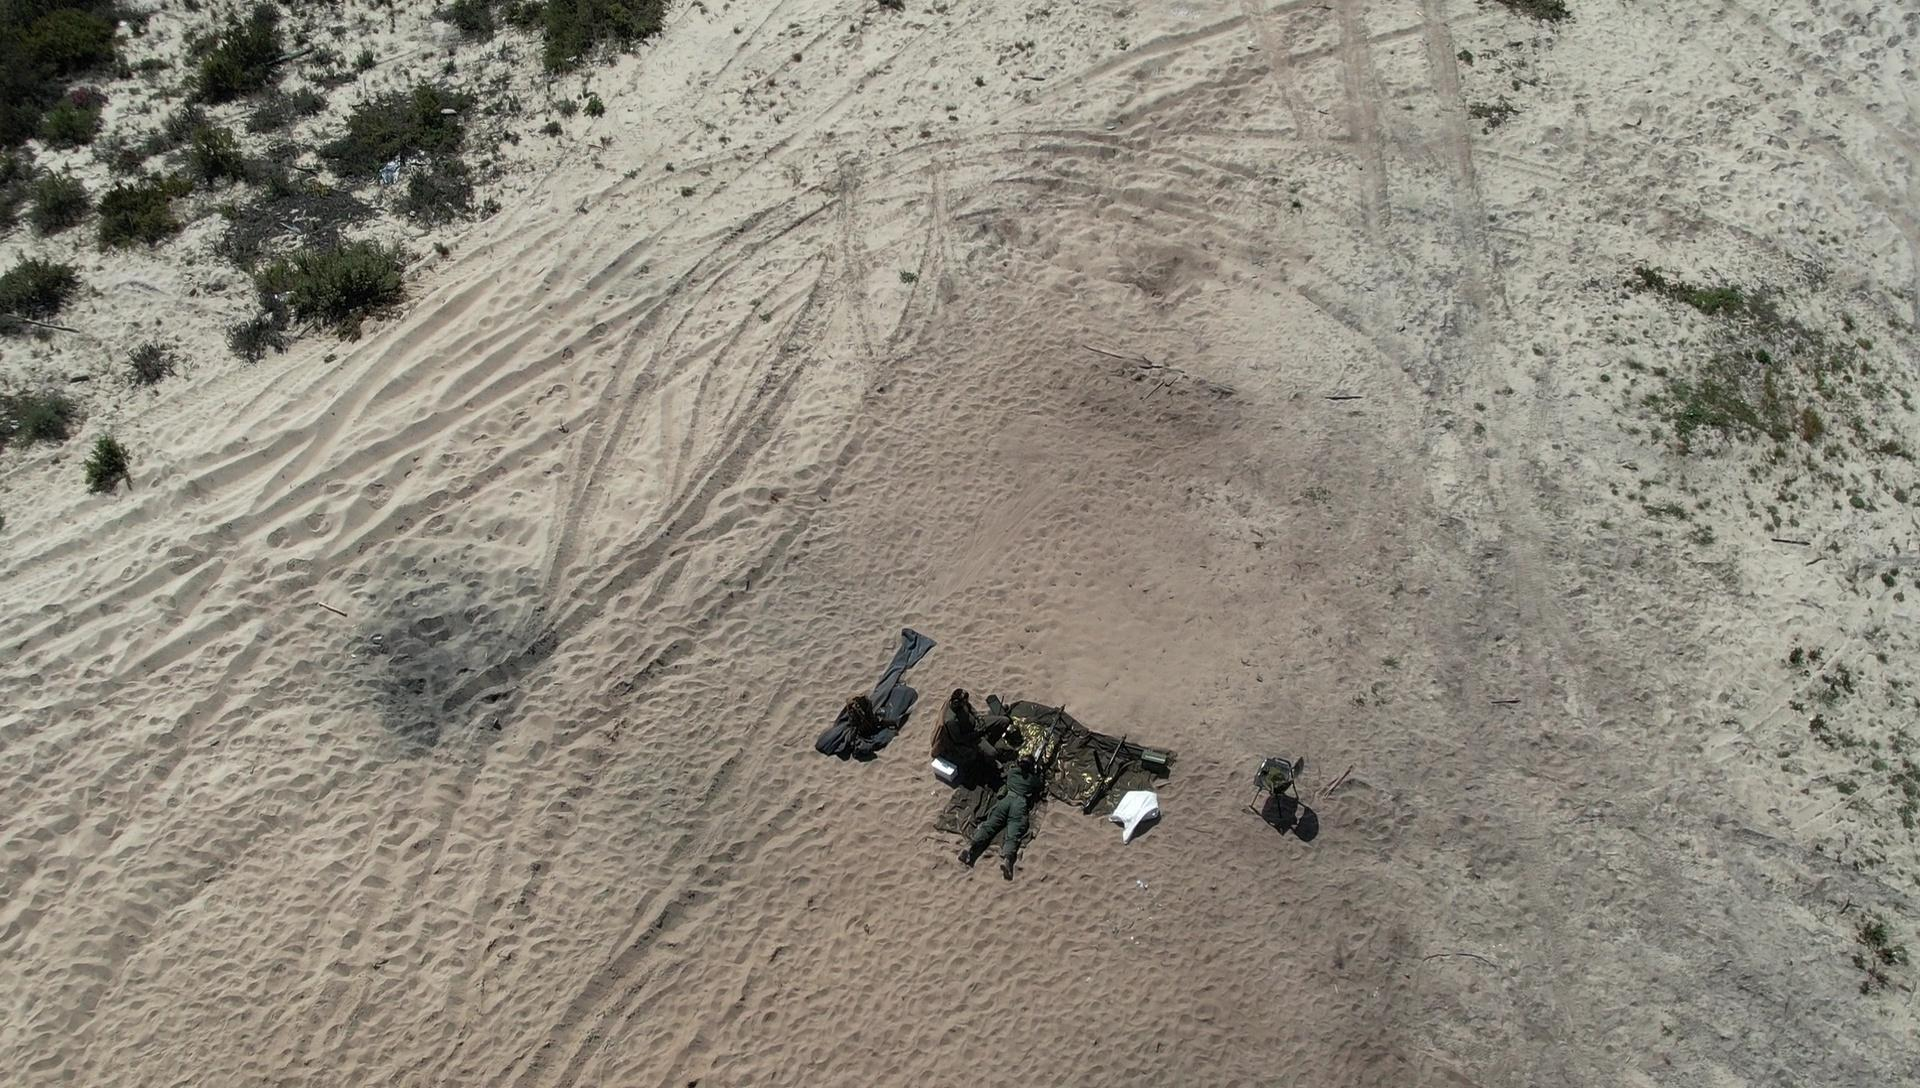Soldier: (967, 735, 1044, 866), (936, 684, 1000, 771)
